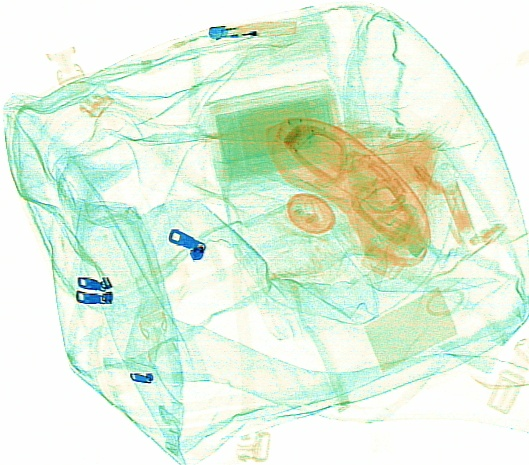lighter: (209, 20, 297, 39)
